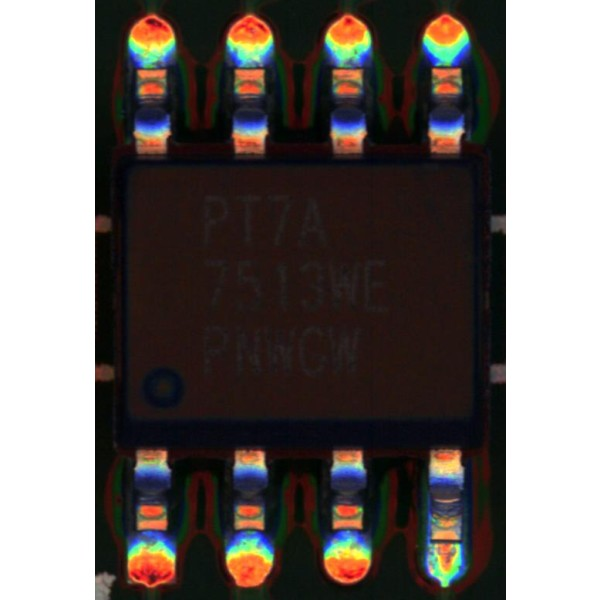Bad_podu: (436, 528, 458, 561)
